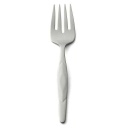fork: (36, 3, 90, 126)
